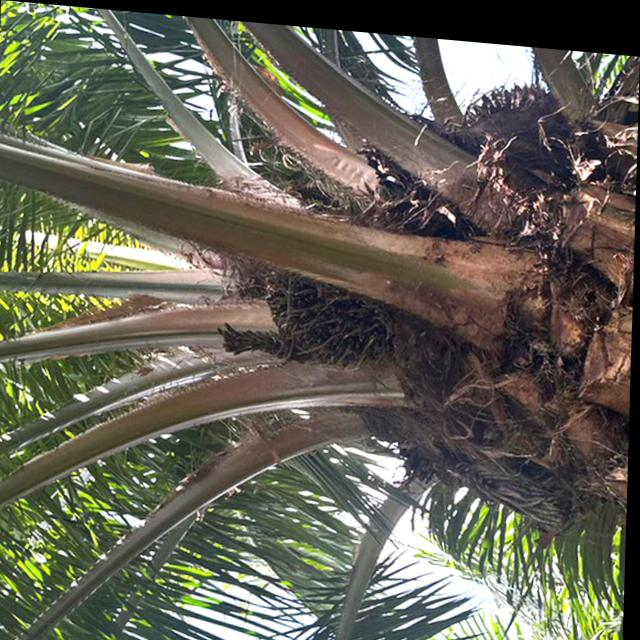unripe: (262, 240, 396, 369)
